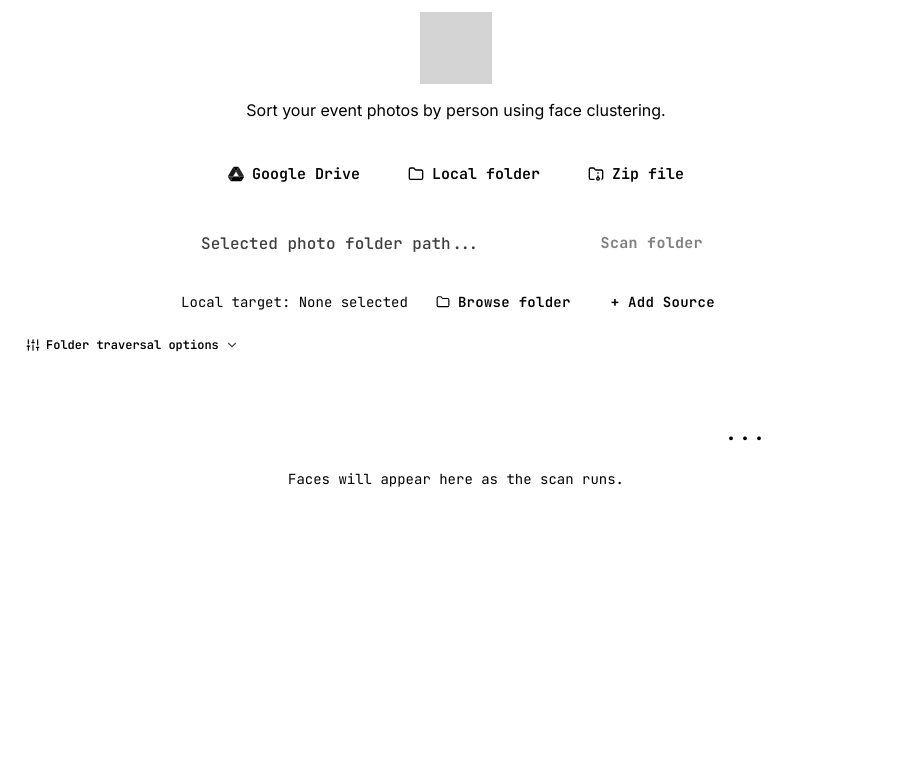
Scenario: Multi-Source Frontend UI & Sources Manager (Phase V2-2 Piece 2) › allows adding local folders to configured sources list
Type "C:/Events/Wedding/Camera_A" into the field with test id "input-source-path" at [377, 243], box top-left (181, 217), bottom-right (573, 269)
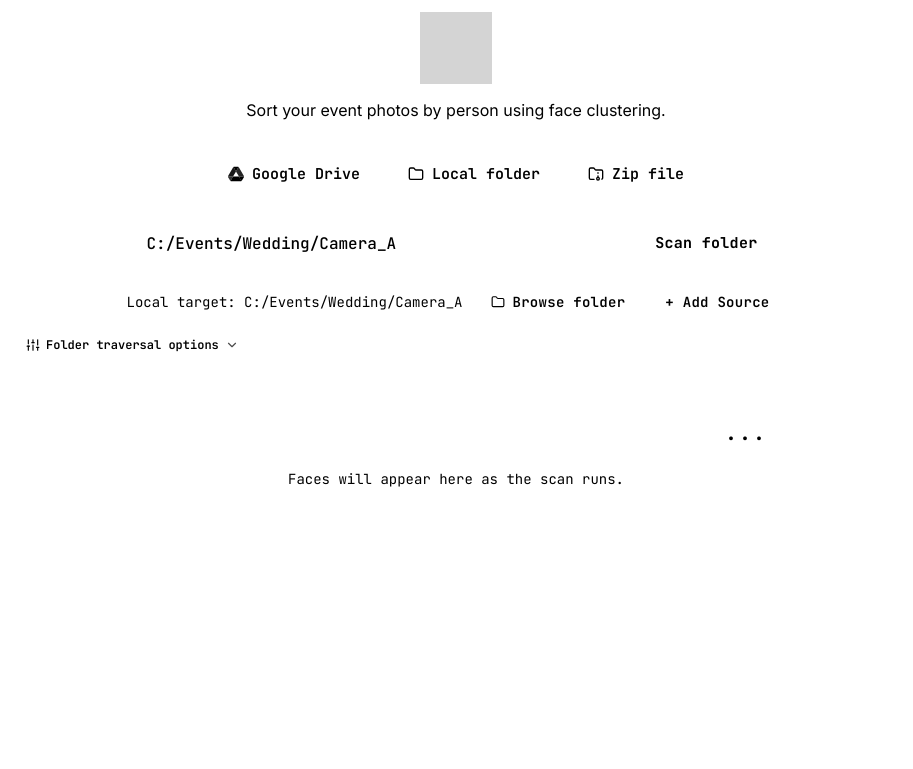
Click the button with test id "add-source-btn" at [717, 302], box top-left (649, 283), bottom-right (786, 321)
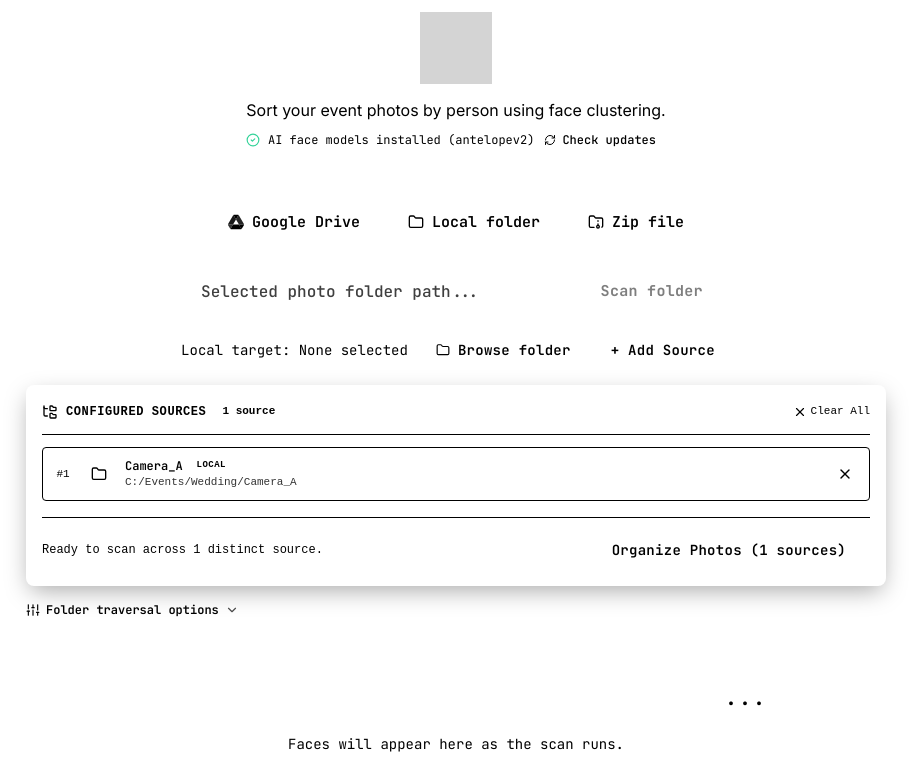
Check: the element with test id "sources-list" is shown, box top-left (26, 385), bottom-right (886, 586)
Check: the text with test id "sources-count-badge" reads "1 source", box top-left (222, 405), bottom-right (275, 417)
Check: the text "Camera_A" is shown, box top-left (125, 458), bottom-right (183, 474)
